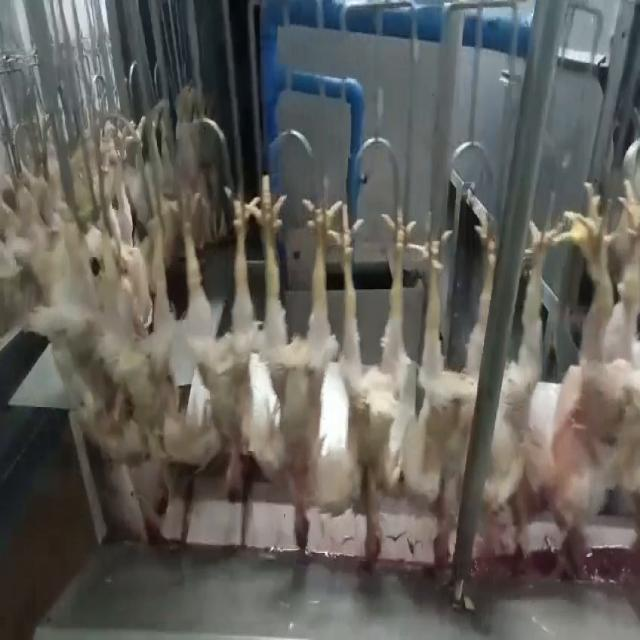chicken: (511, 185, 613, 578), (403, 210, 508, 586), (328, 198, 422, 566), (265, 179, 342, 552), (180, 179, 257, 523), (111, 198, 191, 517), (612, 172, 639, 528)
